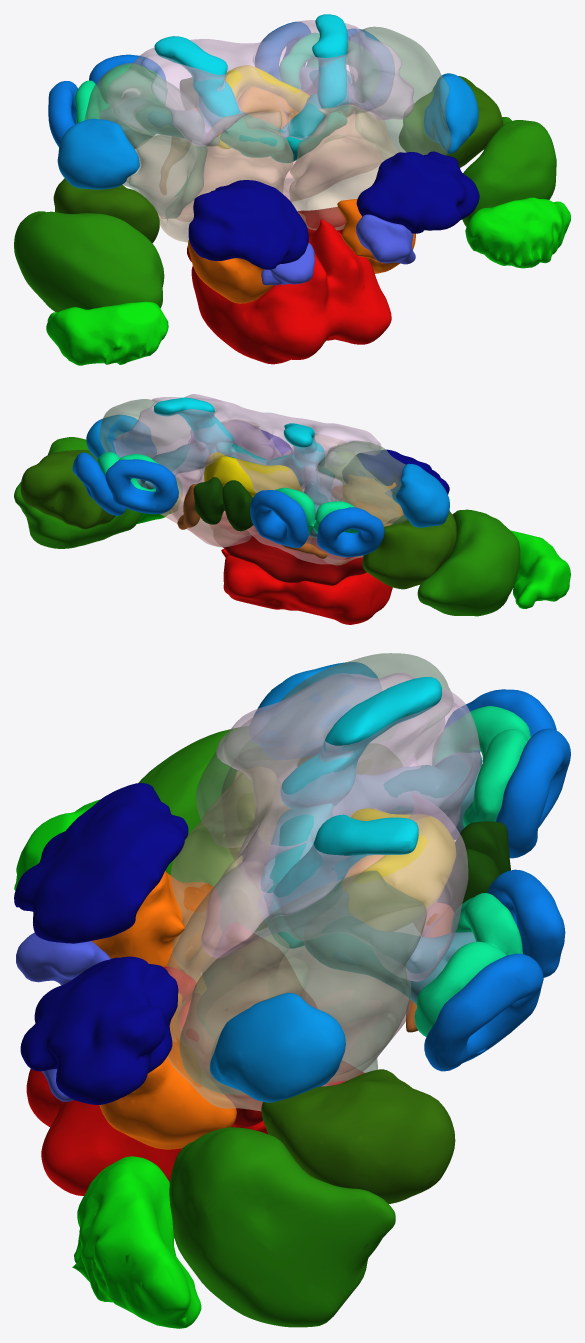
3 views of the same model, one above another, from view 1: azimuth 30°, elevation 25°; view 2: azimuth 150°, elevation 25°; view 3: azimuth 270°, elevation 25° (orthographic). The views are drawn at different scales.
Parts seen in each view (by area): view 1: C1-Male.1.rotated.synorf.labels.SuperiorNeuropils.tif, C1-Male.1.rotated.synorf.labels.LateralNeuropils.tif, C1-Male.1.rotated.synorf.labels.Medula.tif, C1-Male.1.rotated.synorf.labels.InferiorNeruopils.tif, C1-Male.1.rotated.synorf.labels.ALO.tif, C1-Male.1.rotated.synorf.labels.3.tif, C1-Male.1.rotated.synorf.labels.Lamina.tif, C1-Male.1.rotated.synorf.labels.VentroMedialNeuropils.tif, C1-Male.1.rotated.synorf.labels.LateralHorn.tif, C1-Male.1.rotated.synorf.labels.Lobula.tif, C1-Male.1.rotated.synorf.labels.VL.tif, C1-Male.1.rotated.synorf.labels.ML.tif (+8 smaller); view 2: C1-Male.1.rotated.synorf.labels.SuperiorNeuropils.tif, C1-Male.1.rotated.synorf.labels.Medula.tif, C1-Male.1.rotated.synorf.labels.CalyxCollar.tif.001, C1-Male.1.rotated.synorf.labels.Lobula.tif, C1-Male.1.rotated.synorf.labels.LateralNeuropils.tif, C1-Male.1.rotated.synorf.labels.3.tif, C1-Male.1.rotated.synorf.labels.InferiorNeruopils.tif, C1-Male.1.rotated.synorf.labels.LateralHorn.tif, C1-Male.1.rotated.synorf.labels.Saddle.tif, C1-Male.1.rotated.synorf.labels.Lamina.tif, C1-Male.1.rotated.synorf.labels.VL.tif, C1-Male.1.rotated.synorf.labels.VentroMedialNeuropils.tif (+8 smaller); view 3: C1-Male.1.rotated.synorf.labels.SuperiorNeuropils.tif, C1-Male.1.rotated.synorf.labels.LateralNeuropils.tif, C1-Male.1.rotated.synorf.labels.Medula.tif, C1-Male.1.rotated.synorf.labels.ALO.tif, C1-Male.1.rotated.synorf.labels.InferiorNeruopils.tif, C1-Male.1.rotated.synorf.labels.CalyxCollar.tif.001, C1-Male.1.rotated.synorf.labels.Lobula.tif, C1-Male.1.rotated.synorf.labels.Lamina.tif, C1-Male.1.rotated.synorf.labels.VL.tif, C1-Male.1.rotated.synorf.labels.AMMC.tif, C1-Male.1.rotated.synorf.labels.LateralHorn.tif, C1-Male.1.rotated.synorf.labels.Ped.tif (+9 smaller).
Boxes of the visible parts, x1,y1,x2,y2 form: C1-Male.1.rotated.synorf.labels.SuperiorNeuropils.tif: (107,20,414,146); C1-Male.1.rotated.synorf.labels.LateralNeuropils.tif: (84,26,451,218); C1-Male.1.rotated.synorf.labels.Medula.tif: (14,117,556,312); C1-Male.1.rotated.synorf.labels.InferiorNeruopils.tif: (158,103,398,242); C1-Male.1.rotated.synorf.labels.ALO.tif: (188,151,479,269); C1-Male.1.rotated.synorf.labels.3.tif: (191,219,391,364); C1-Male.1.rotated.synorf.labels.Lamina.tif: (46,197,570,365); C1-Male.1.rotated.synorf.labels.VentroMedialNeuropils.tif: (126,111,382,221); C1-Male.1.rotated.synorf.labels.LateralHorn.tif: (57,73,478,189); C1-Male.1.rotated.synorf.labels.Lobula.tif: (53,76,502,243); C1-Male.1.rotated.synorf.labels.VL.tif: (154,14,348,127); C1-Male.1.rotated.synorf.labels.ML.tif: (219,94,346,162); C1-Male.1.rotated.synorf.labels.SuperiorNeuropils.tif: (113,394,381,505); C1-Male.1.rotated.synorf.labels.Medula.tif: (14,437,520,616); C1-Male.1.rotated.synorf.labels.CalyxCollar.tif.001: (72,452,384,557); C1-Male.1.rotated.synorf.labels.Lobula.tif: (20,449,456,589); C1-Male.1.rotated.synorf.labels.LateralNeuropils.tif: (99,399,407,525); C1-Male.1.rotated.synorf.labels.3.tif: (221,549,392,624); C1-Male.1.rotated.synorf.labels.InferiorNeruopils.tif: (170,419,398,565); C1-Male.1.rotated.synorf.labels.LateralHorn.tif: (86,415,449,527); C1-Male.1.rotated.synorf.labels.Saddle.tif: (217,513,366,585); C1-Male.1.rotated.synorf.labels.Lamina.tif: (137,510,570,608); C1-Male.1.rotated.synorf.labels.VL.tif: (154,397,324,466); C1-Male.1.rotated.synorf.labels.VentroMedialNeuropils.tif: (160,473,346,564); C1-Male.1.rotated.synorf.labels.SuperiorNeuropils.tif: (201,672,480,981); C1-Male.1.rotated.synorf.labels.LateralNeuropils.tif: (179,653,453,1094); C1-Male.1.rotated.synorf.labels.Medula.tif: (138,727,395,1327); C1-Male.1.rotated.synorf.labels.ALO.tif: (14,783,188,1104); C1-Male.1.rotated.synorf.labels.InferiorNeruopils.tif: (166,767,329,1111); C1-Male.1.rotated.synorf.labels.CalyxCollar.tif.001: (424,689,570,1071); C1-Male.1.rotated.synorf.labels.Lobula.tif: (221,758,455,1203); C1-Male.1.rotated.synorf.labels.Lamina.tif: (14,799,201,1328); C1-Male.1.rotated.synorf.labels.VL.tif: (272,677,441,940); C1-Male.1.rotated.synorf.labels.AMMC.tif: (91,871,236,1149); C1-Male.1.rotated.synorf.labels.LateralHorn.tif: (210,662,377,1102); C1-Male.1.rotated.synorf.labels.Ped.tif: (304,752,482,1004).
Size of the model in its own units: 480 by 233 by 257.
